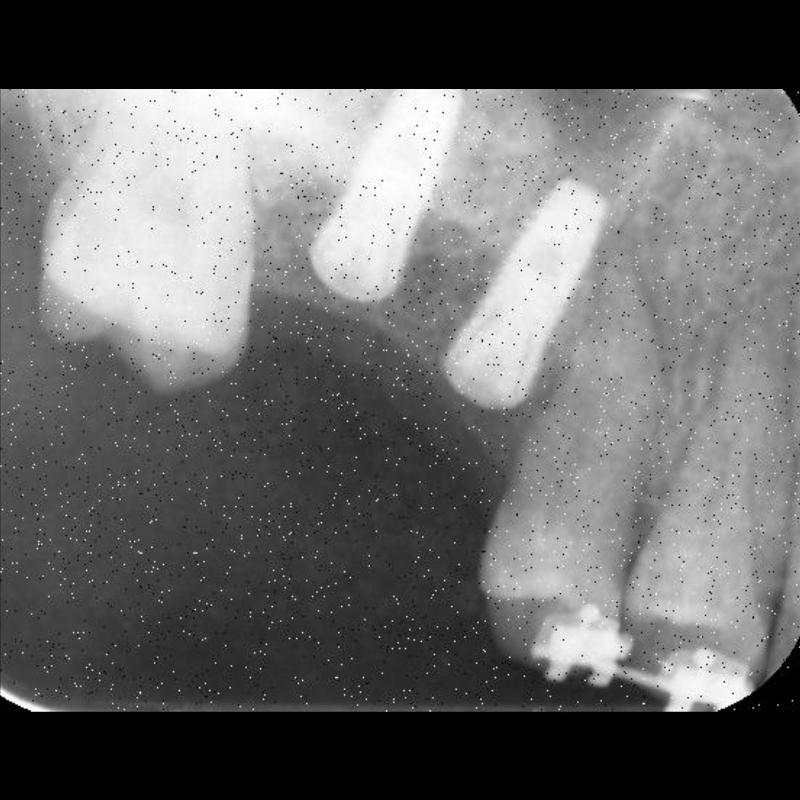Dentium: (434, 173, 620, 417)
